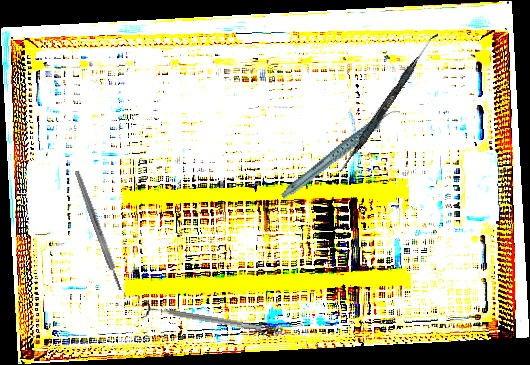Fixation Ring: (141, 299, 263, 338)
Handpiece: (268, 107, 414, 201)
Scalpel Handle: (73, 169, 124, 292)
Spatula Surgical: (338, 28, 439, 176)
